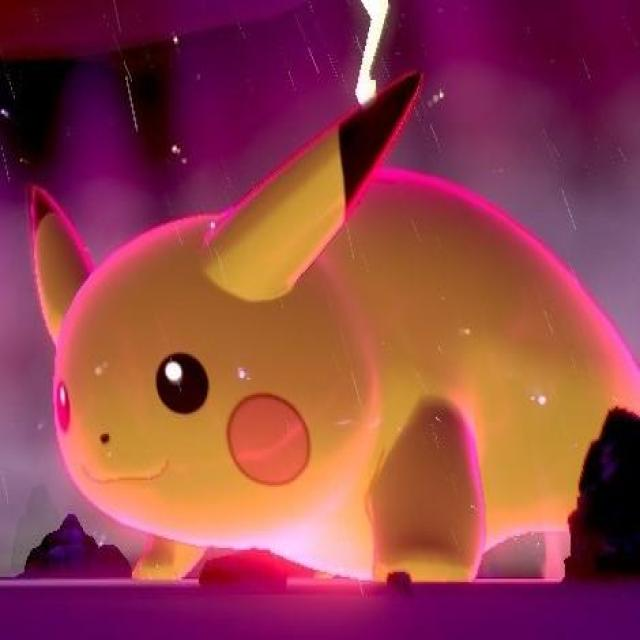pikachu: (28, 70, 636, 586)
